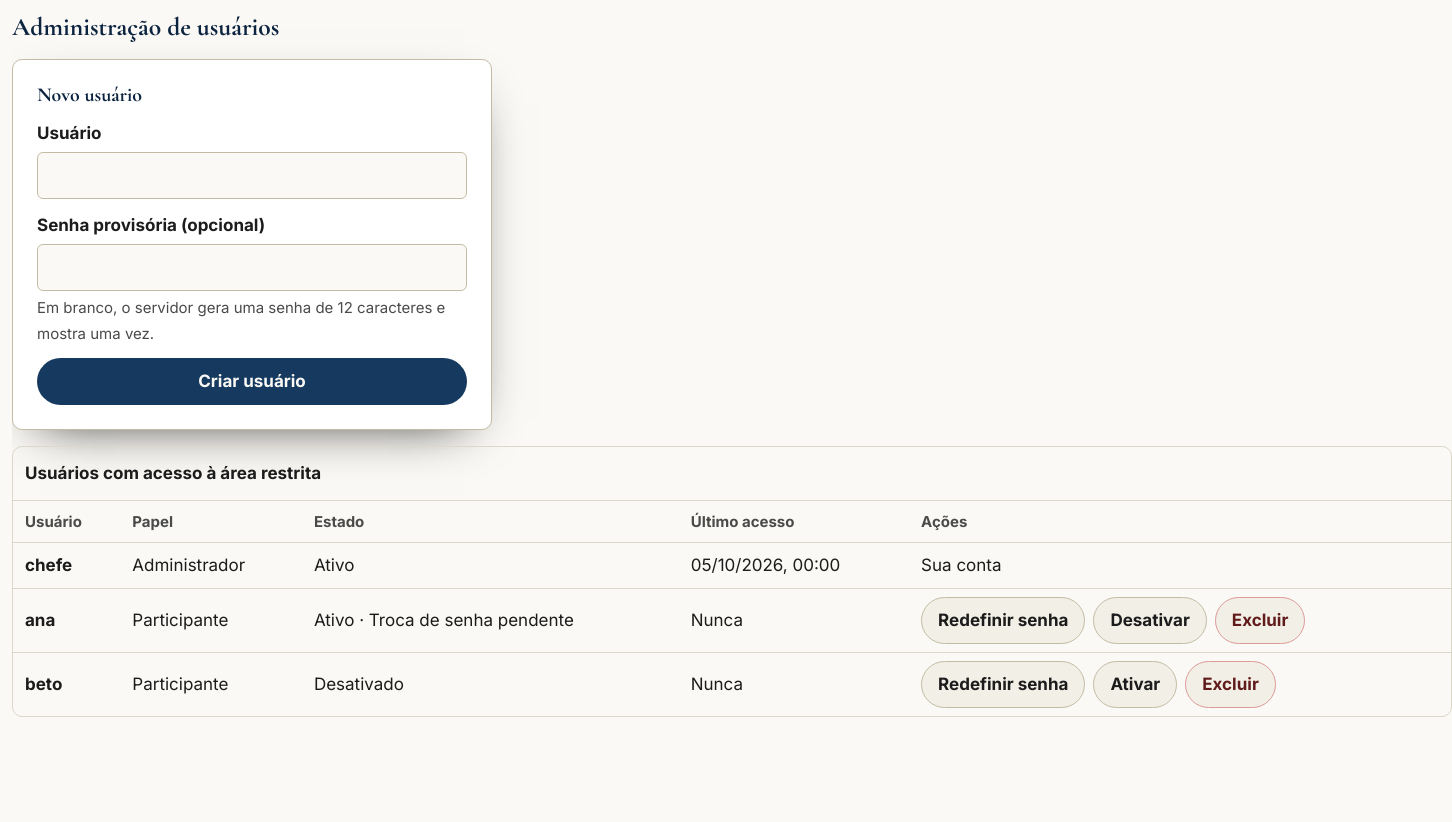
Scenario: PainelAdmin › redefinir mostra a nova provisória
This screenshot has width=1452, height=822.
Click the button "Redefinir senha" in the row of "ana".
click(1003, 621)  # box left=921, top=597, right=1085, bottom=644
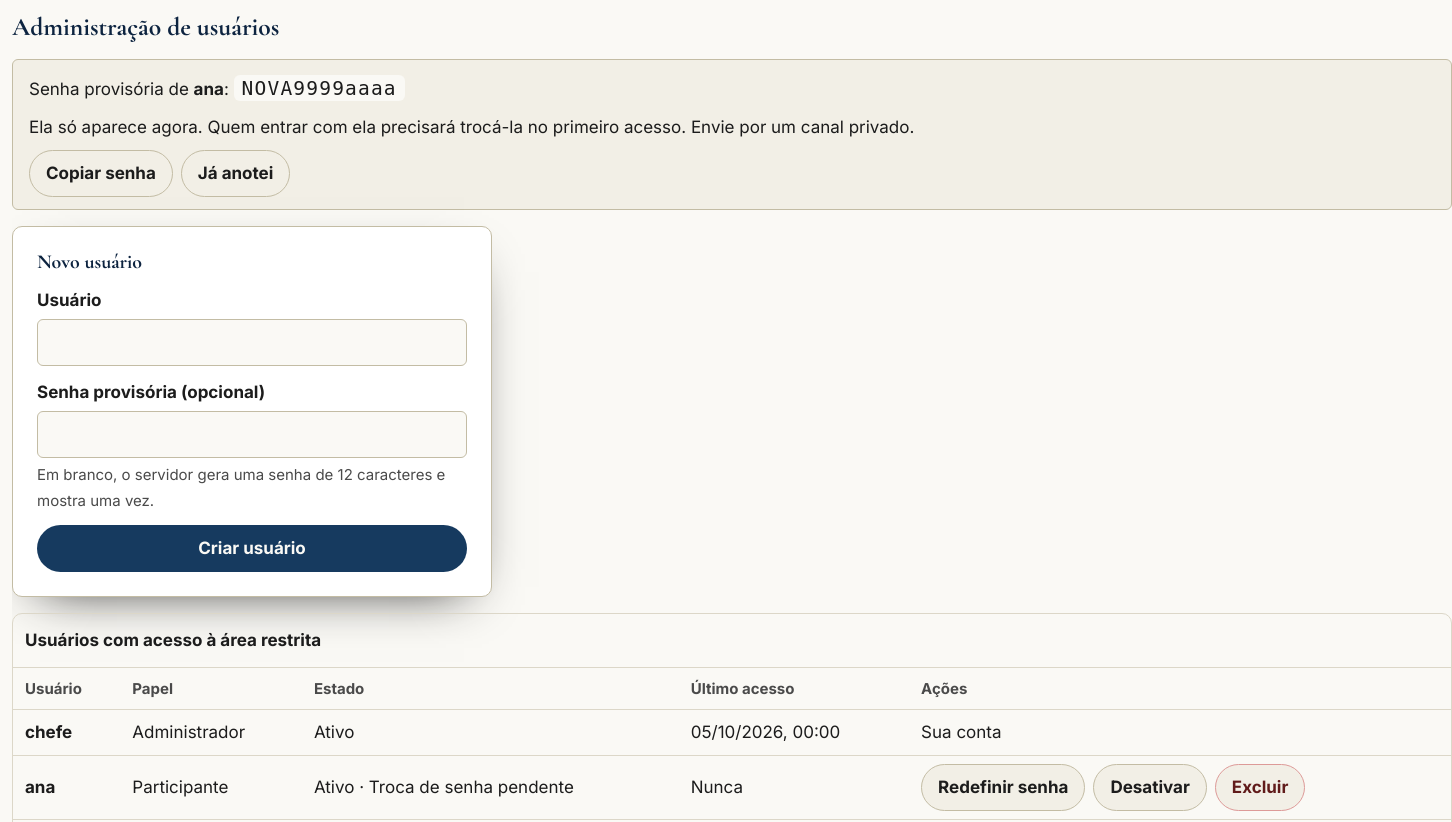
Check: the message with class "ar-admin__provisoria" shows "NOVA9999aaaa", box left=242, top=77, right=397, bottom=100
